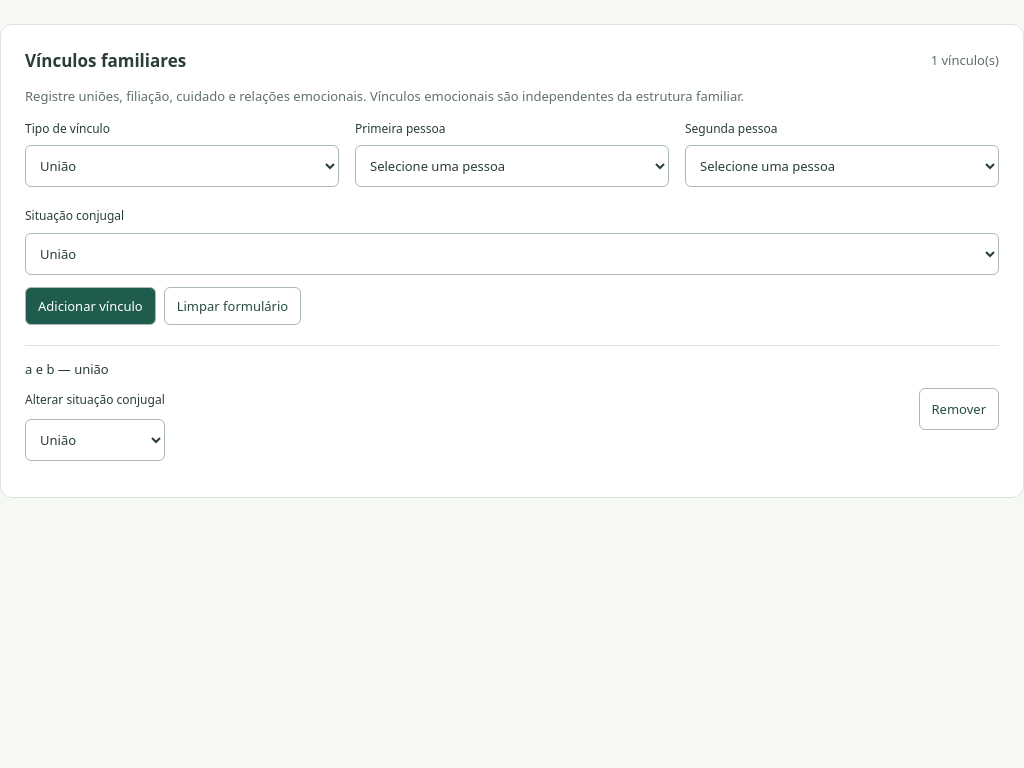
Test: VinculosComponent › deve permitir atualizar a situação conjugal pela lista sem recriar a união
Select "Divórcio" in the dropdown labelled "Alterar situação conjugal" at (95, 440), box [25, 419, 165, 461]
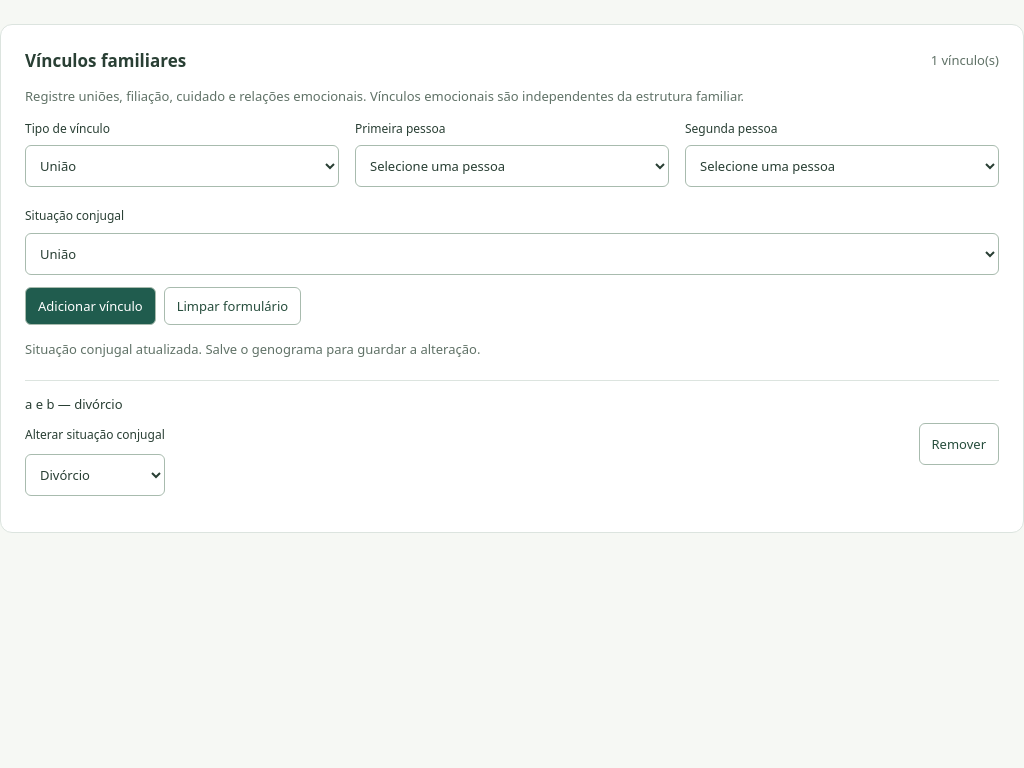
Check: the text "a e b — divórcio" is shown, box [25, 395, 122, 413]
